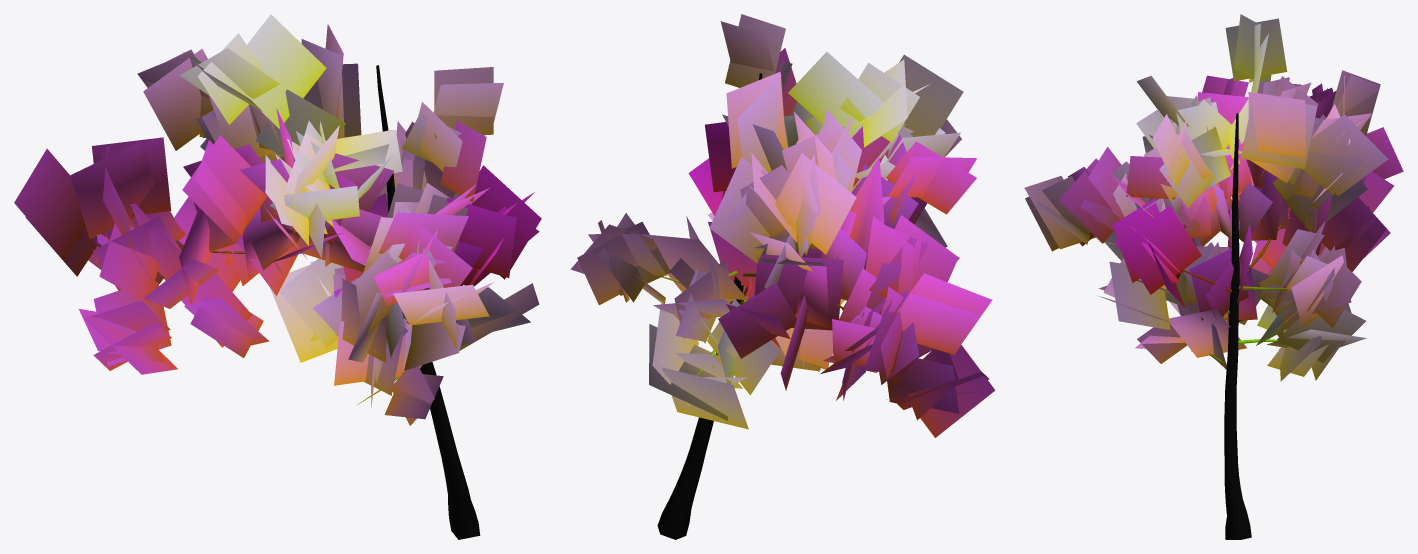
Rendered from tree_pine_b_lod1.glb.
3 renders of one model, left to right at view 1: azimuth 30°, elevation 25°; view 2: azimuth 150°, elevation 25°; view 3: azimuth 270°, elevation 25°, orthographic. The views are drawn at different scales.
Parts seen in each view (by area): view 1: tree_pine_b_lod1; view 2: tree_pine_b_lod1; view 3: tree_pine_b_lod1.
Part boxes in pixels (<box>): tree_pine_b_lod1: <box>14,14,541,539</box>; tree_pine_b_lod1: <box>570,14,995,539</box>; tree_pine_b_lod1: <box>1024,14,1403,539</box>.
Bounding box in the file's own units: 10.34 × 12.55 × 9.83.
